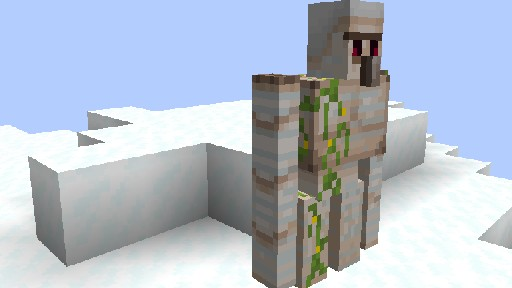iron_golem: (251, 0, 390, 288)
